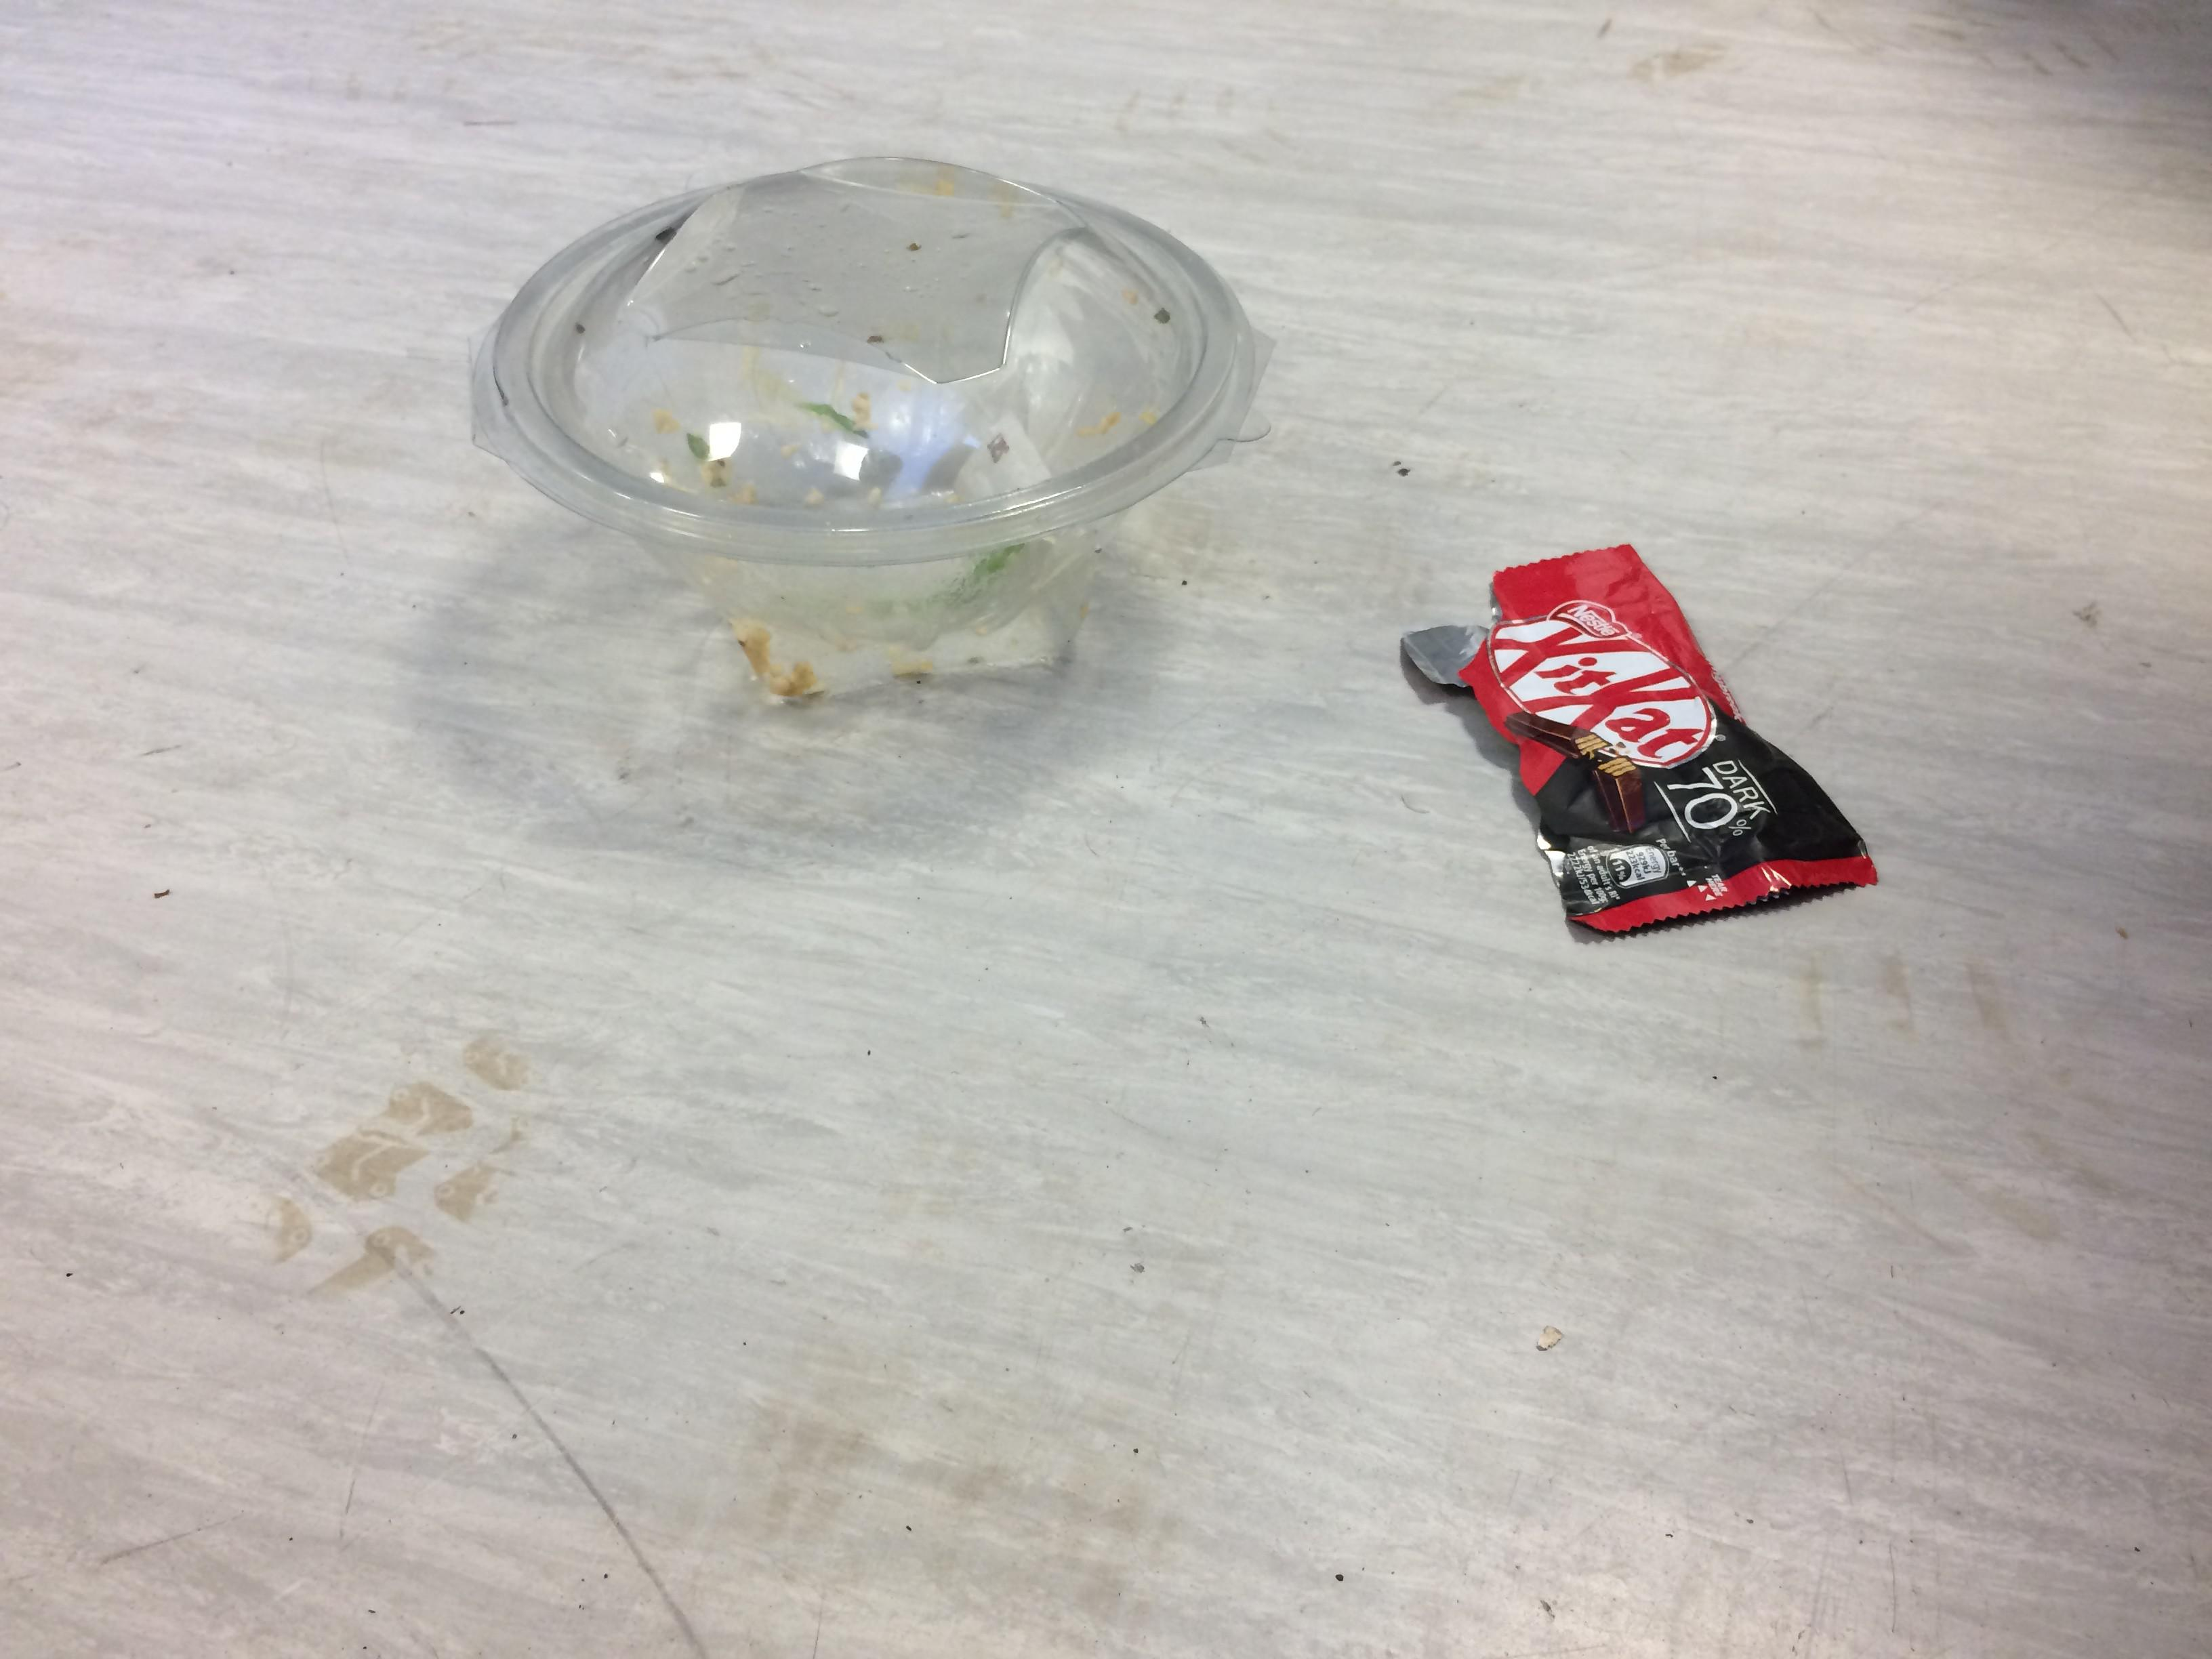Trash: (1379, 523, 1898, 953)
